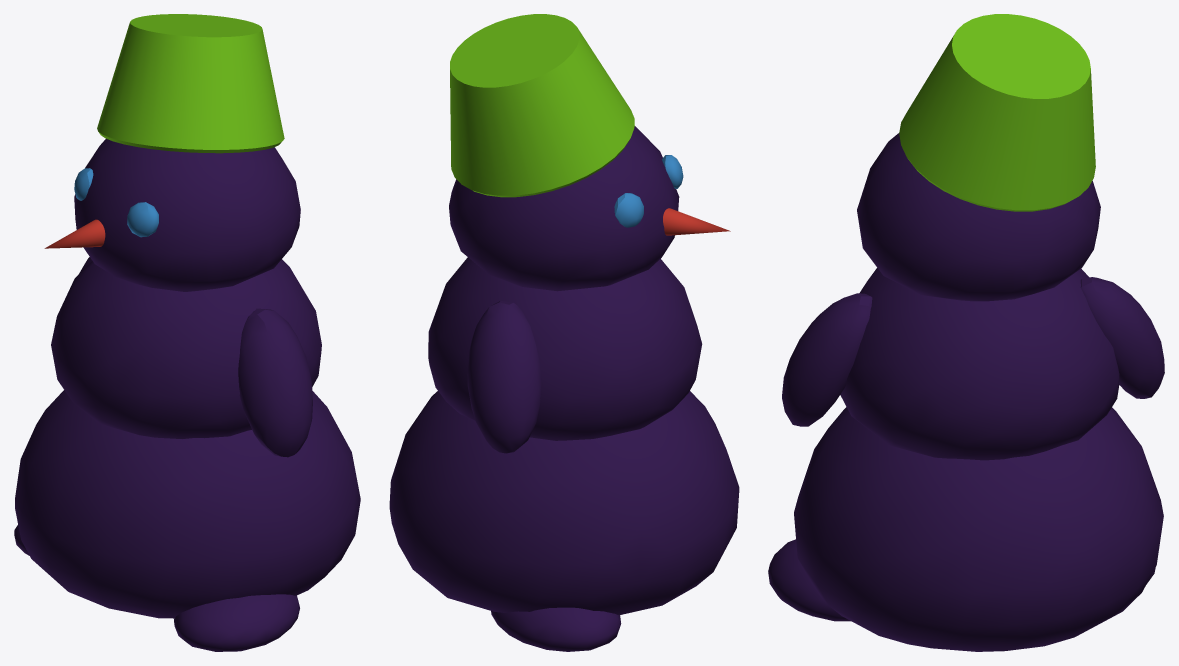
The model's file is Snowman1.fbx.
3 renders of one model, left to right at view 1: azimuth 30°, elevation 25°; view 2: azimuth 150°, elevation 25°; view 3: azimuth 270°, elevation 25°, orthographic. The views are drawn at different scales.
Parts seen in each view (by area): view 1: Sphere.005; view 2: Sphere.005; view 3: Sphere.005.
Part boxes in pixels (x1=…): Sphere.005: x1=14, y1=14, x2=360, y2=651; Sphere.005: x1=389, y1=14, x2=739, y2=651; Sphere.005: x1=768, y1=14, x2=1164, y2=651.
Size of the model in its own units: 87.87 by 151 by 93.05.
